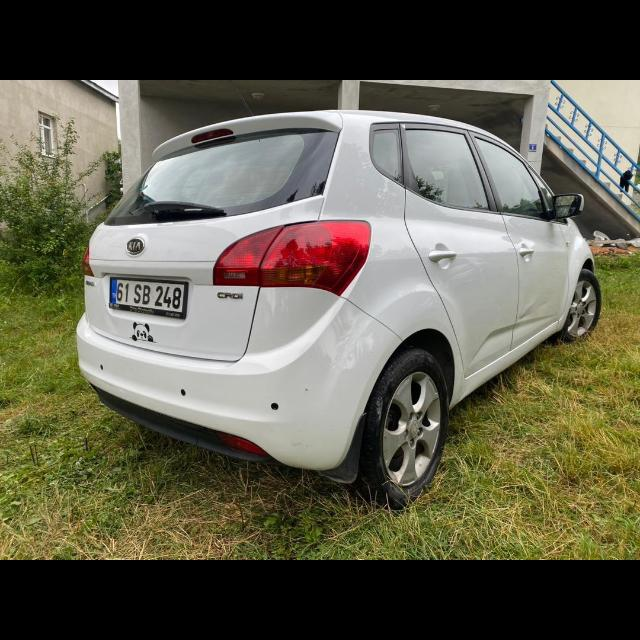Plaka: (110, 278, 184, 312)
